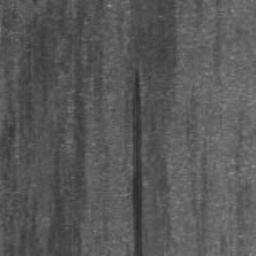Scratches: (132, 68, 143, 256)
